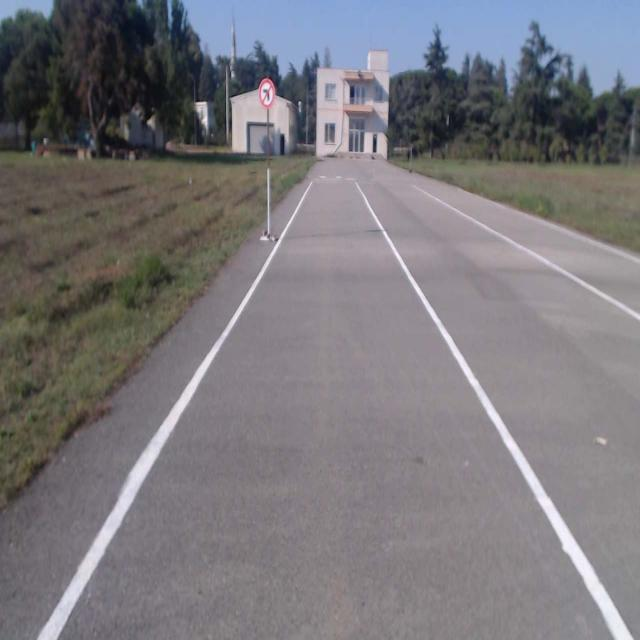soladonulmez: (260, 78, 272, 105)
